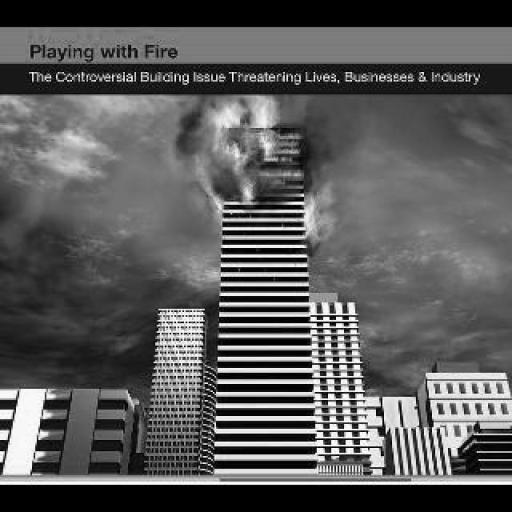smoke: (202, 98, 347, 259)
